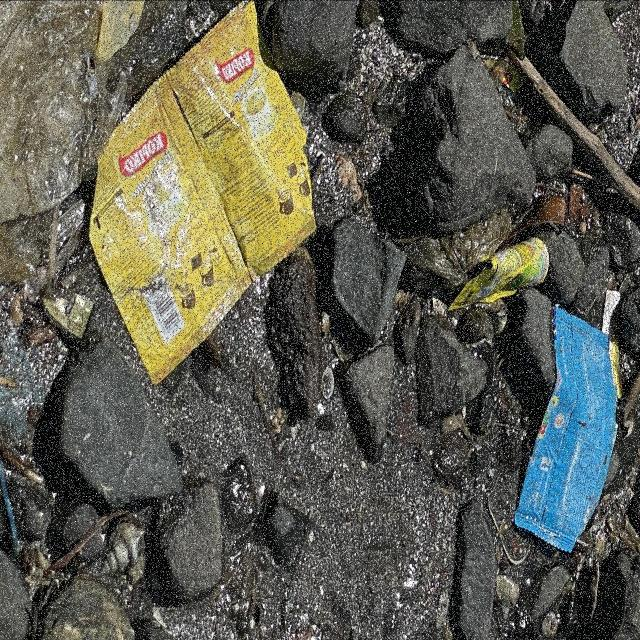plastic_waste: (89, 4, 319, 388), (519, 306, 622, 556)
